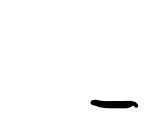minus: (90, 100, 137, 110)
